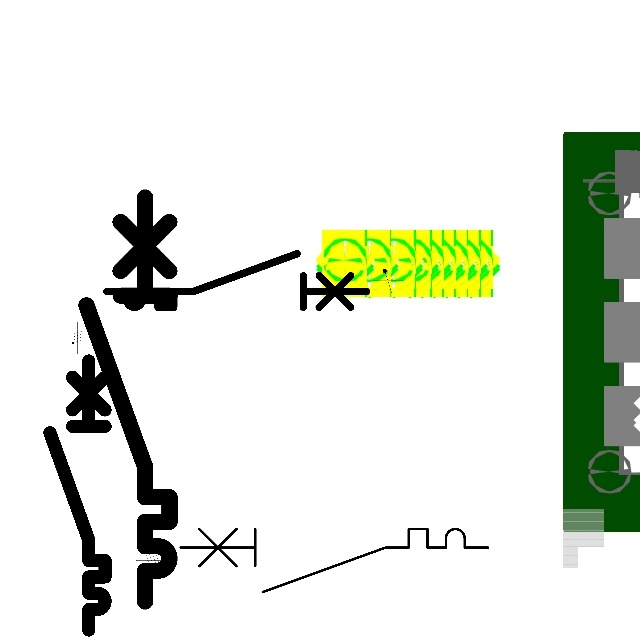interruptor_termomagnetico: (76, 187, 180, 612), (172, 521, 496, 600), (43, 354, 112, 637), (100, 247, 373, 314)
